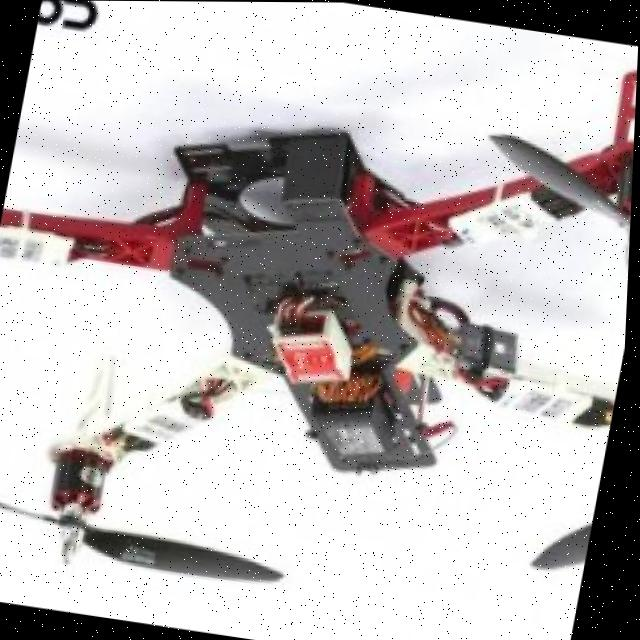drones: (0, 12, 640, 640)
